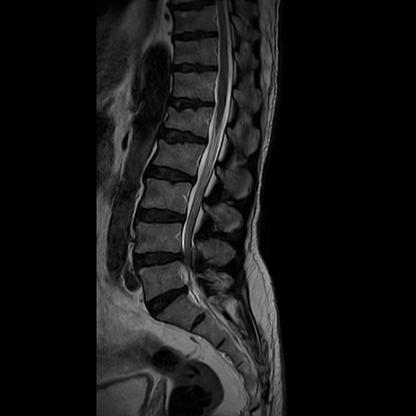Annular Disc Relaxationrotation: (147, 164, 197, 187), (162, 129, 209, 148)
Disc Bulgerotation: (145, 288, 195, 312), (135, 249, 181, 270)
